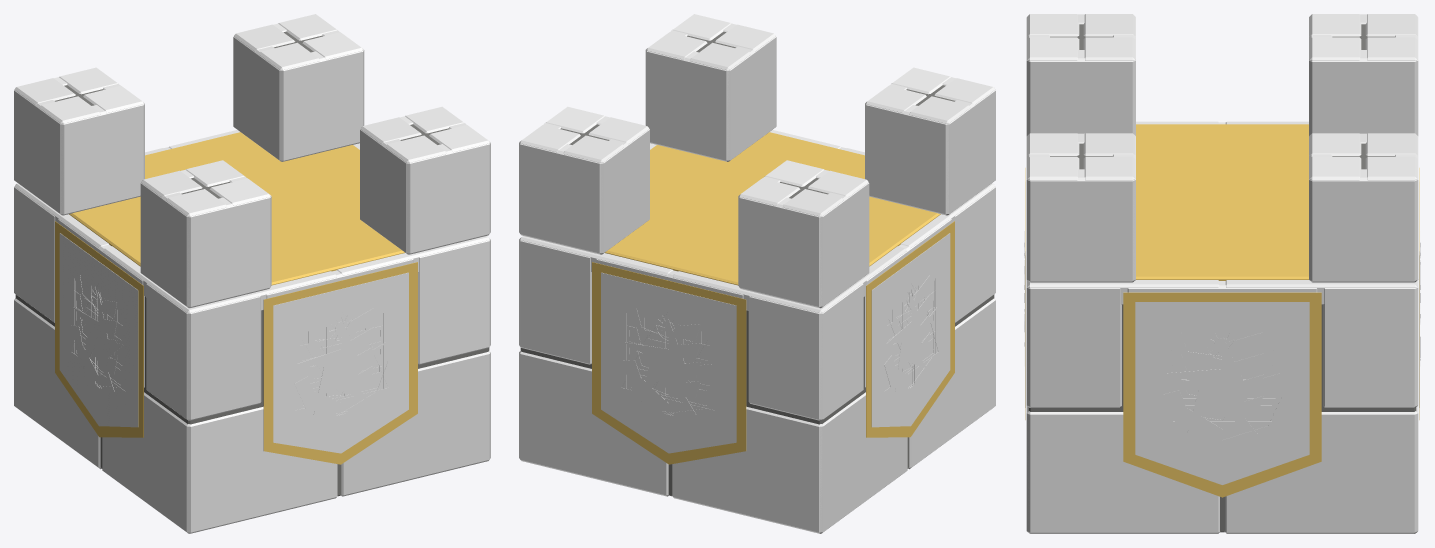
File: bergfried.gltf
The picture shows the model from 3 angles, left to right: view 1: azimuth 30°, elevation 25°; view 2: azimuth 150°, elevation 25°; view 3: azimuth 270°, elevation 25°; orthographic projection. The views are drawn at different scales.
Size of the model in its own units: 0.9996 by 0.994 by 0.9996.
